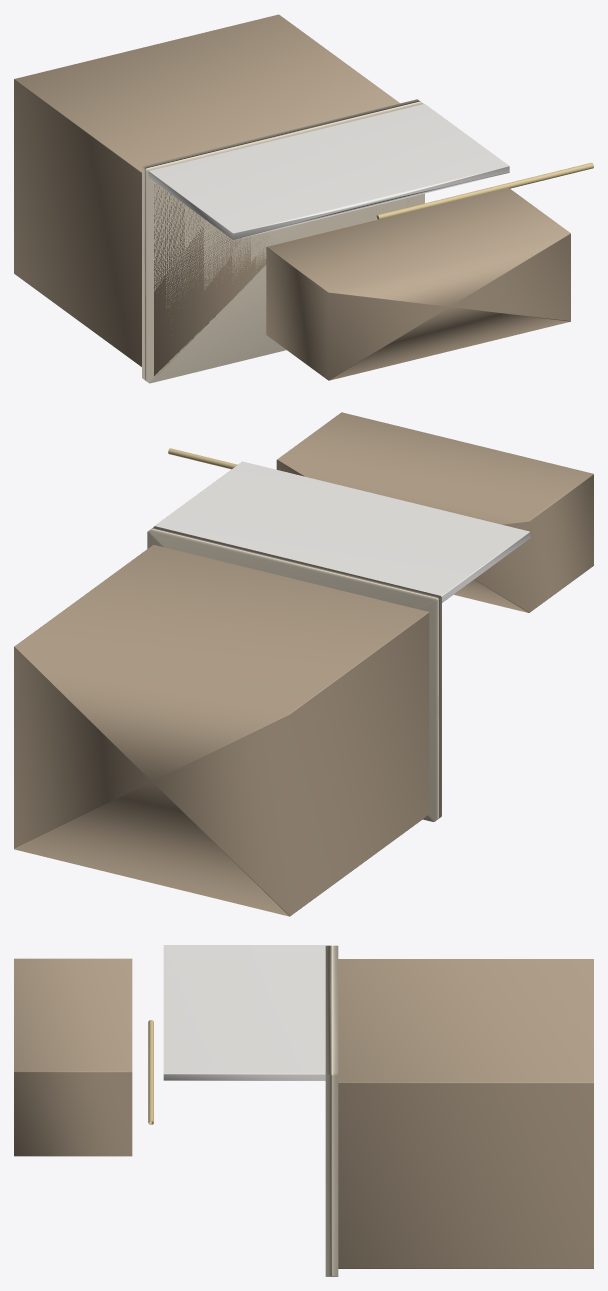
The model's file is kitchen.glb.
3 views of the same model, one above another, from view 1: azimuth 30°, elevation 25°; view 2: azimuth 150°, elevation 25°; view 3: azimuth 270°, elevation 25° (orthographic). The views are drawn at different scales.
Visible parts, largest first — view 1: cabinet, wall_unit, splashback, counter, rail; view 2: cabinet, wall_unit, splashback, counter; view 3: cabinet, wall_unit, splashback, counter, rail.
Part boxes in pixels (box(x1,y1,x2,y2)): cabinet: box(14, 14, 408, 376); wall_unit: box(266, 188, 570, 380); splashback: box(148, 104, 509, 240); counter: box(142, 99, 424, 383); rail: box(376, 162, 593, 219); cabinet: box(14, 544, 429, 916); wall_unit: box(276, 412, 593, 612); splashback: box(154, 461, 530, 602); counter: box(147, 526, 441, 821); cabinet: box(338, 959, 593, 1268); wall_unit: box(14, 958, 132, 1156); splashback: box(163, 945, 325, 1080); counter: box(325, 945, 338, 1276); rail: box(148, 1020, 153, 1124).
Bounding box in the file's own units: 1.25 × 0.72 × 1.86.
